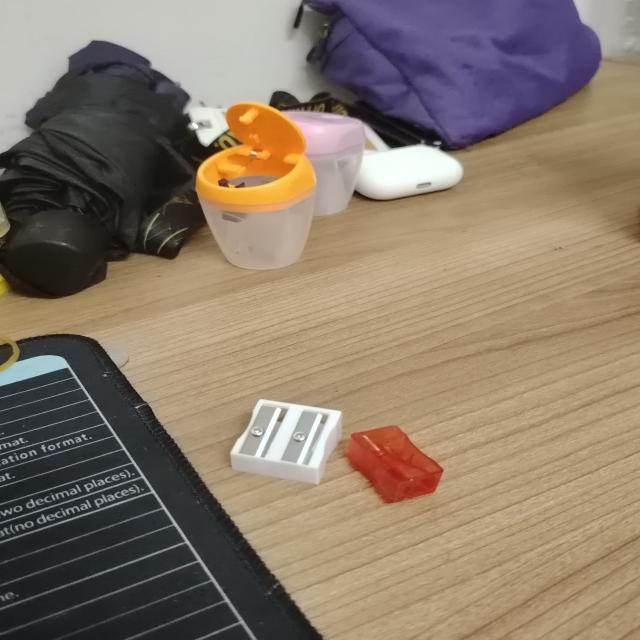sharpener: (196, 102, 316, 270), (230, 399, 342, 484), (287, 111, 366, 217), (347, 426, 443, 503)
